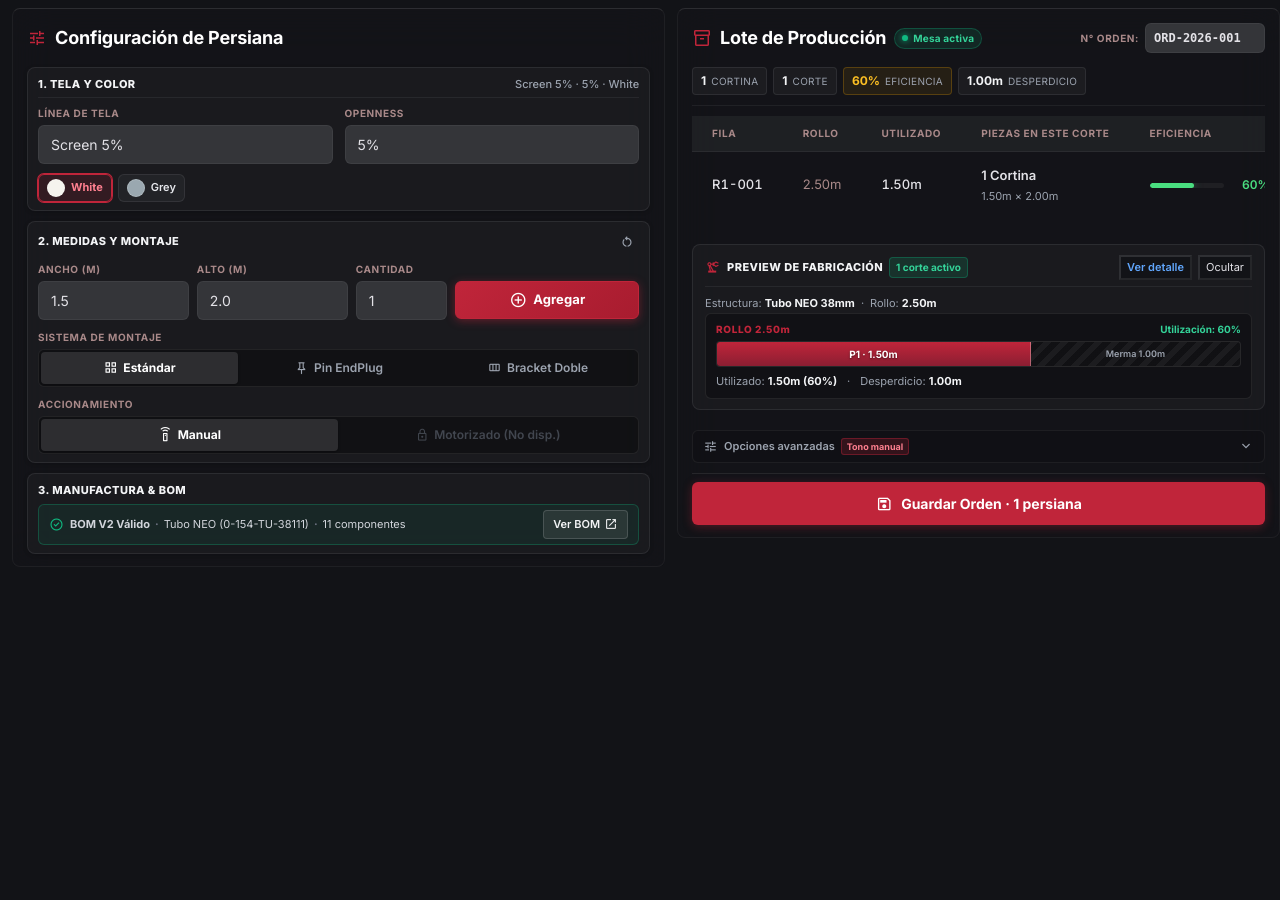
Test: Production Focus Mode — Rebalanced Layout & Manufacturing Preview Tests › 7. Opciones avanzadas están en el panel derecho y se despliegan correctamente
Expected: the text "Tono de Herrajes" is not shown
// Al hacer click, se abre
Click the button "Opciones avanzadas Tono manual": {"x": 779, "y": 446} [693,430,1264,462]
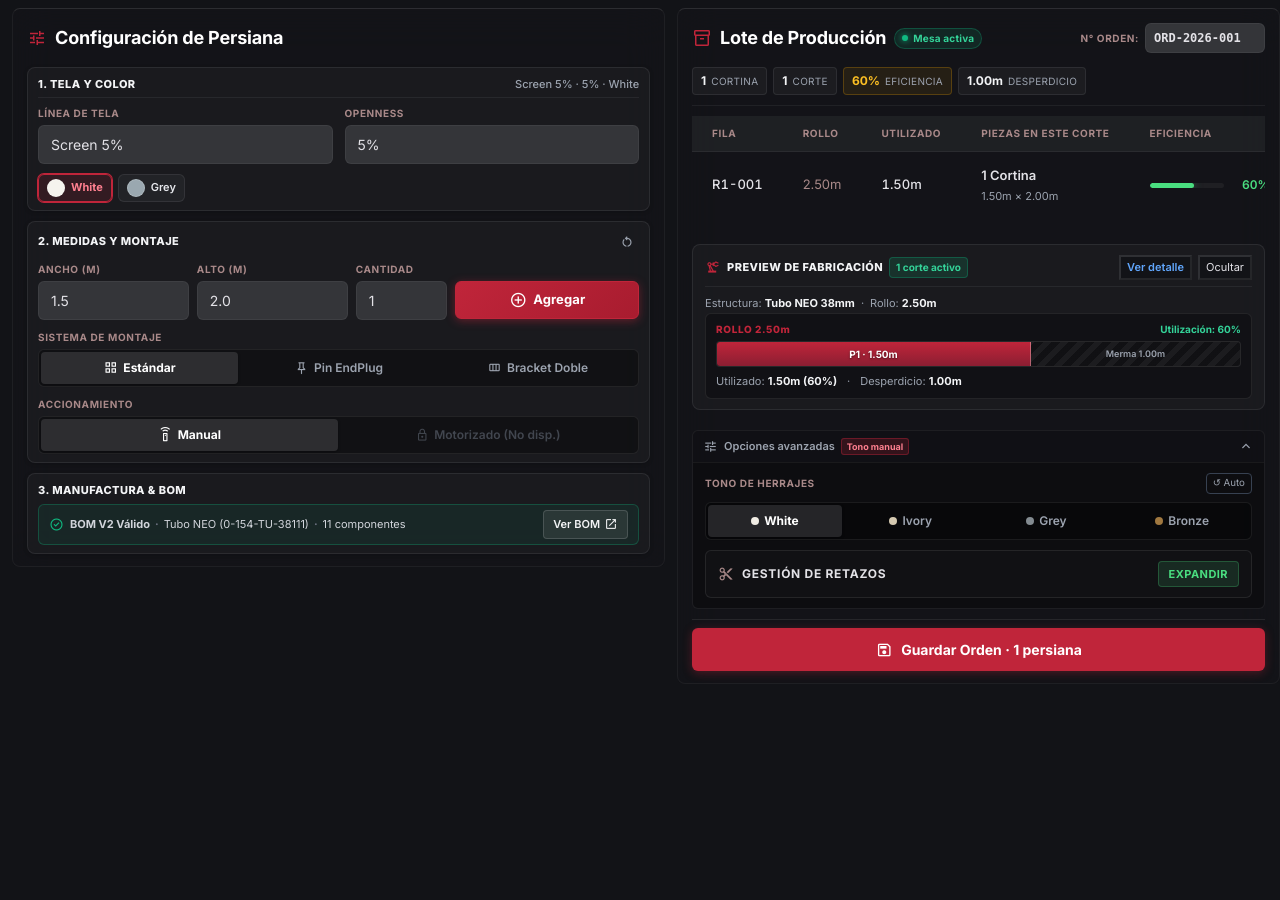
Now the text "Tono de Herrajes" is shown, box [705,476,815,491]
